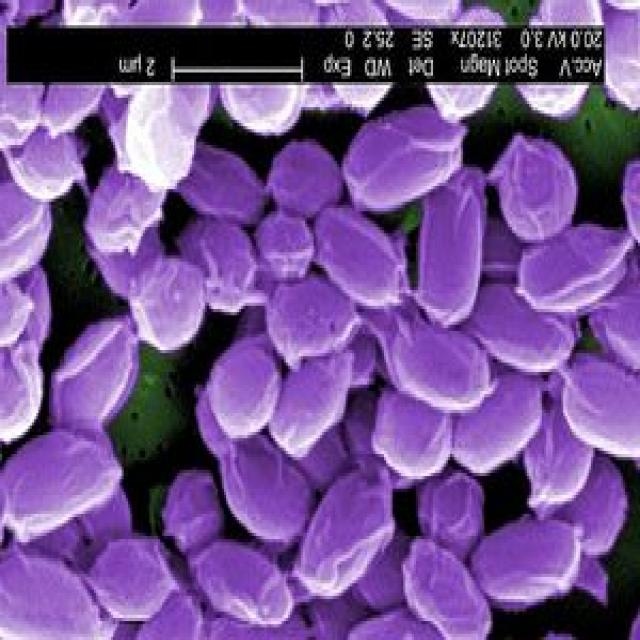Amoeba: (2, 3, 640, 640)
